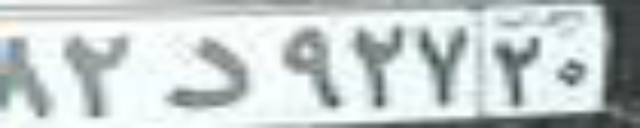0: (553, 58, 593, 87)
2: (62, 33, 133, 117), (353, 26, 403, 106), (491, 34, 545, 106)
7: (413, 25, 473, 104)
8: (0, 35, 52, 118)
9: (279, 28, 342, 106)
dal: (162, 37, 253, 107)
